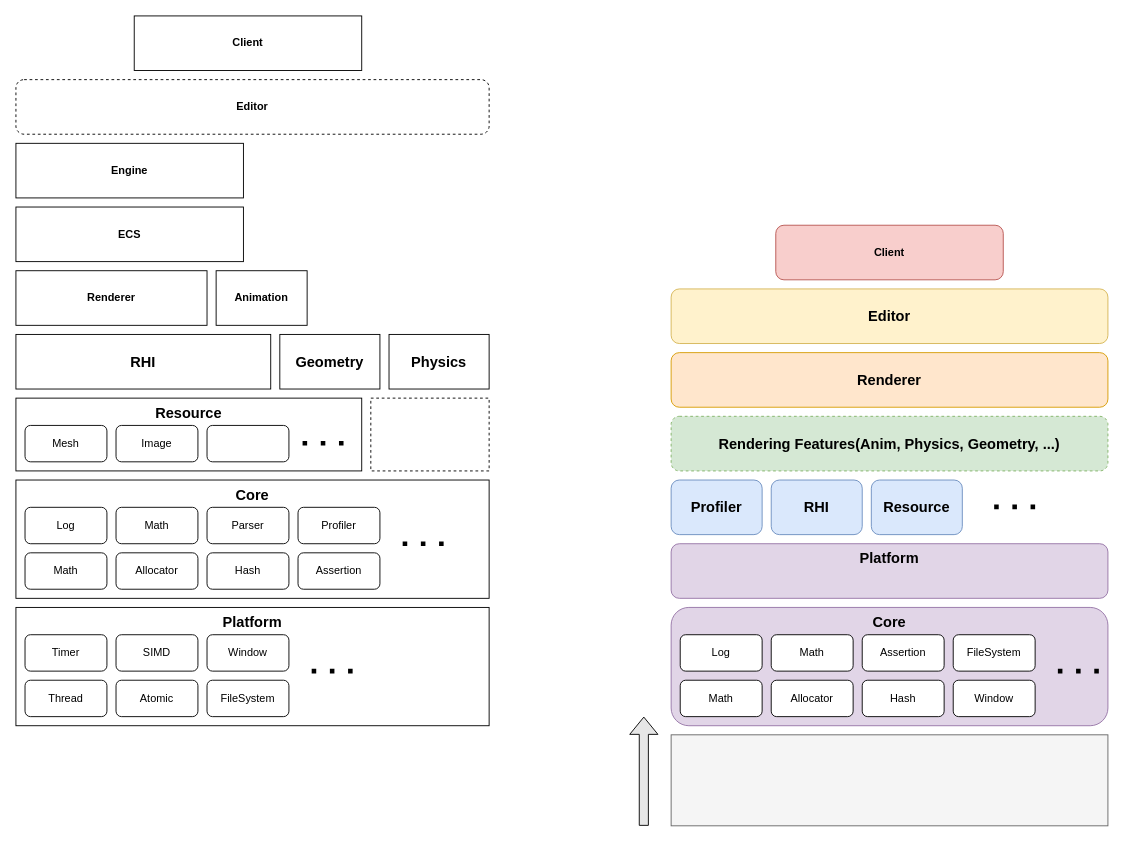
Some shapes in this 1124 by 842 pixel diagram are drawn without their labels. The shapes that lost their labels are listed below. From the top down, each one's centre as x and y in pixels, then its label:
At point 247,443: "Material".
At point 429,434: "ShaderSystem".
At point 889,780: "HW/Driver/OS".
